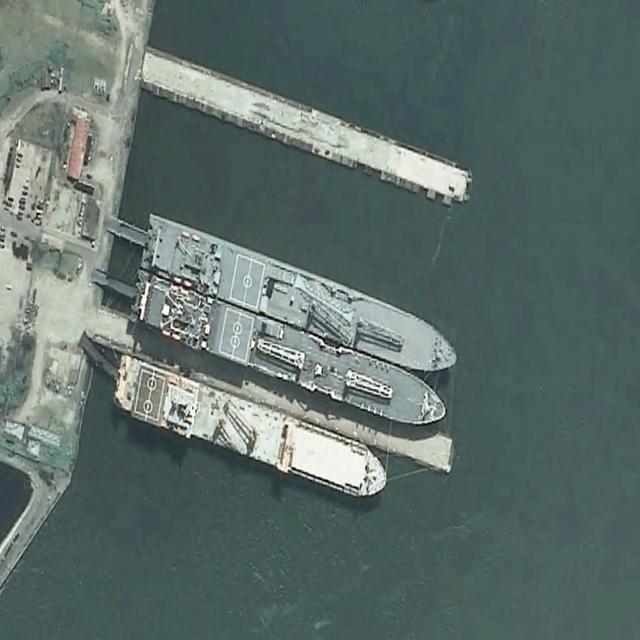Cargo: (138, 211, 463, 385), (127, 272, 449, 438), (108, 354, 391, 509)
